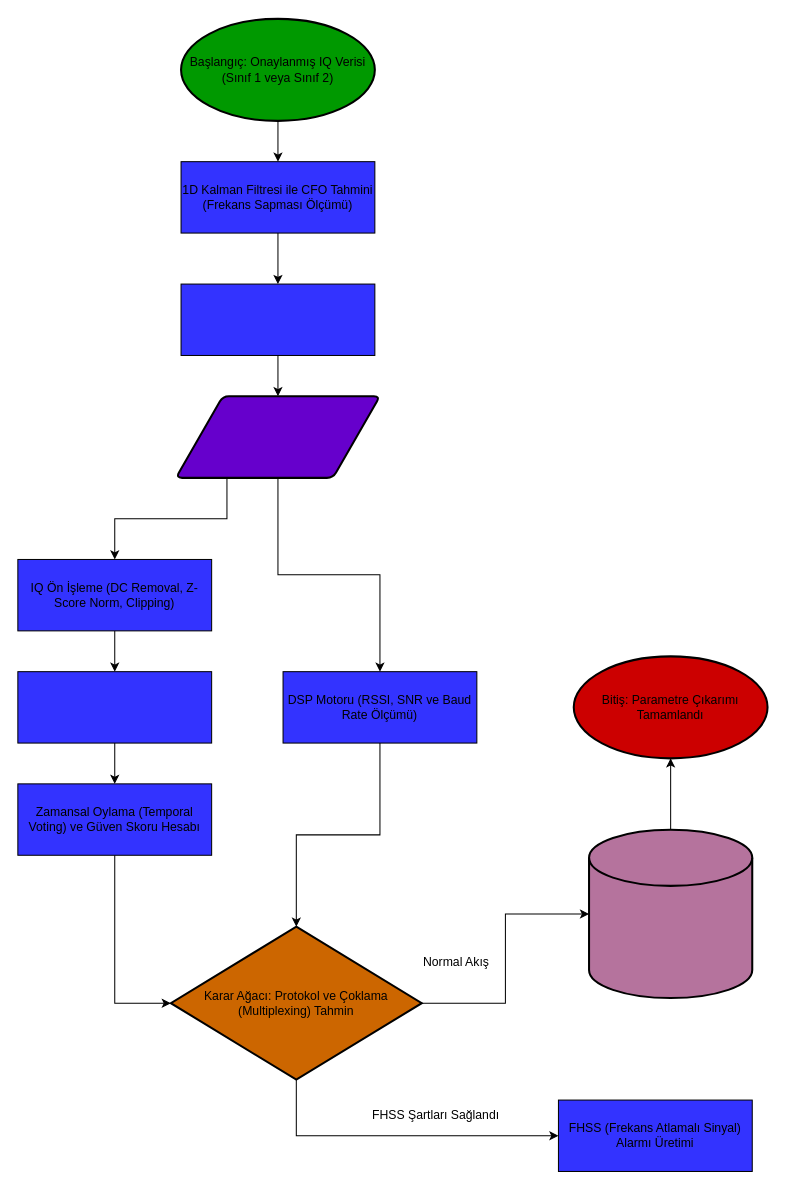
Image size: 786x1189. Some labels were removed from this diagram. The shapes that lost their labels are listed below. From the top down, each one's centre as x and y in pixels, then its label:
At pixel 277 319: "Karmaşık Frekans Kaydırma (Complex Shift) ile Düzeltme".
At pixel 277 436: "CFO Düzeltmeli IQ Verisi".
At pixel 114 707: "RFConformerNet (ONNX) Modülasyon Sınıflandırma".
At pixel 670 913: "DecodedSignal Veri Yapısında Birleştirme ve PostgreSQL/SQLite Loglama".
